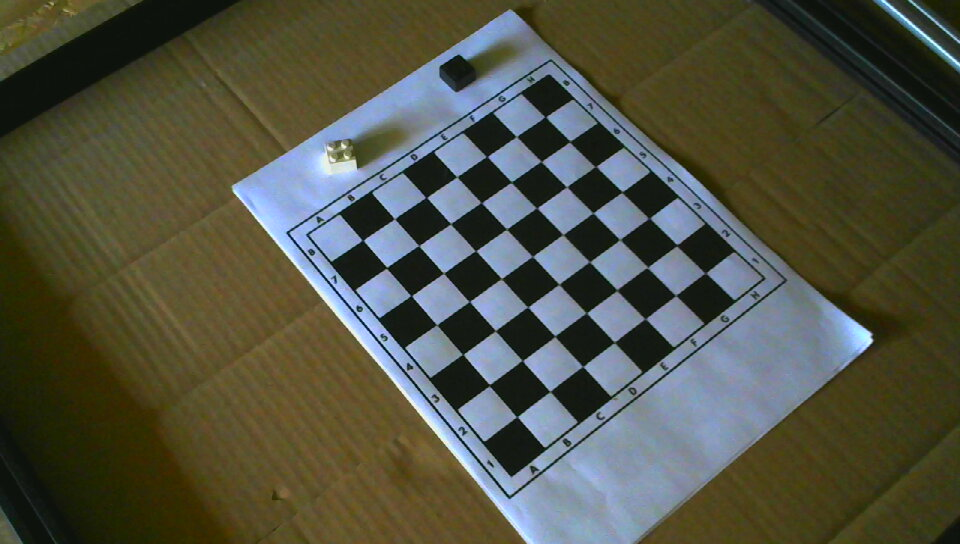bp: (439, 54, 477, 94)
wp: (323, 138, 359, 176)
